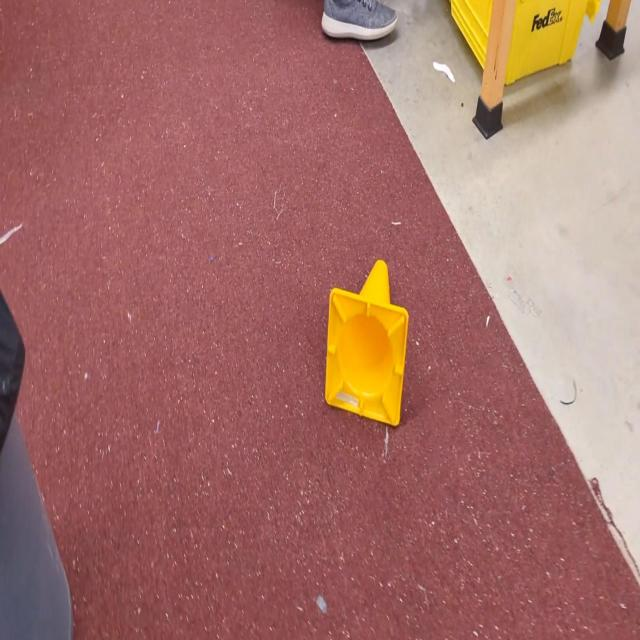frc_cone: (325, 259, 408, 426)
